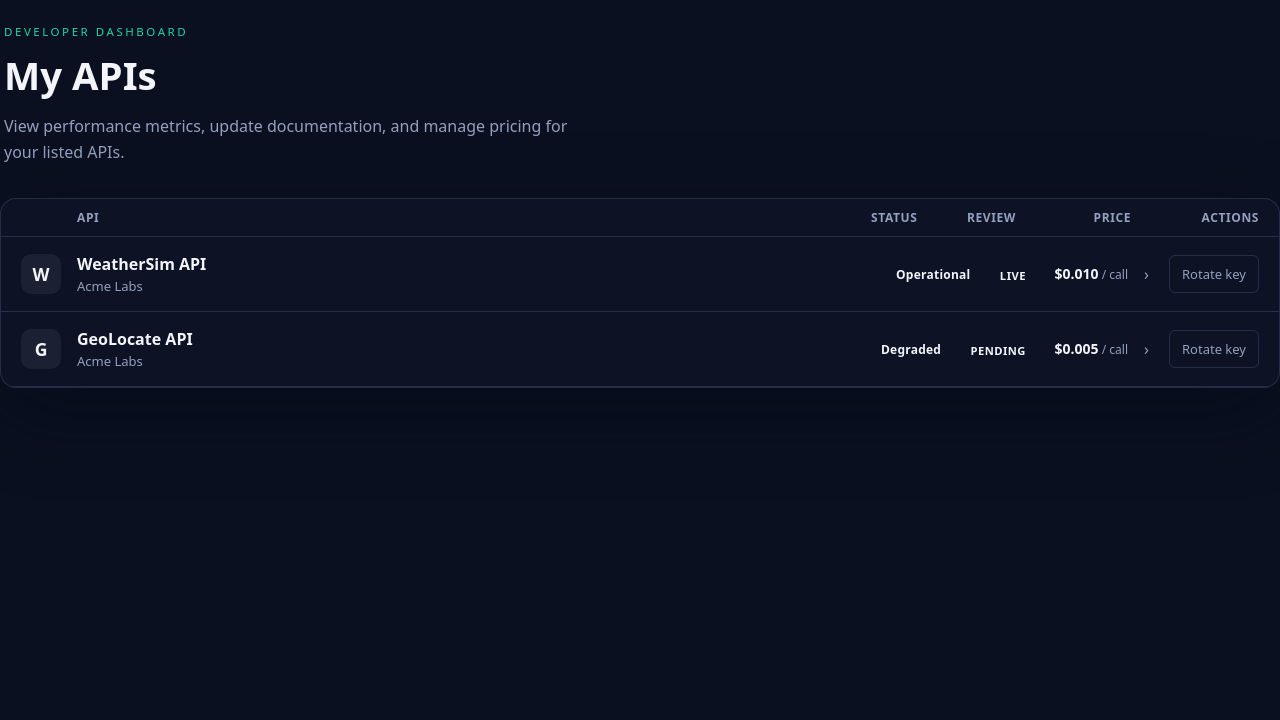
Test case: MyApis page › enables Rotate key button and opens KeyRotationModal when signed in
expect the list with test id "my-apis-list" is shown: met, box [1,237,1279,387]
What coordinates should you click on to do the following:
click the button with aria-label "Rotate key for WeatherSim API"
I would click on:
 (1214, 274)
Its box is [1169,255,1259,293].
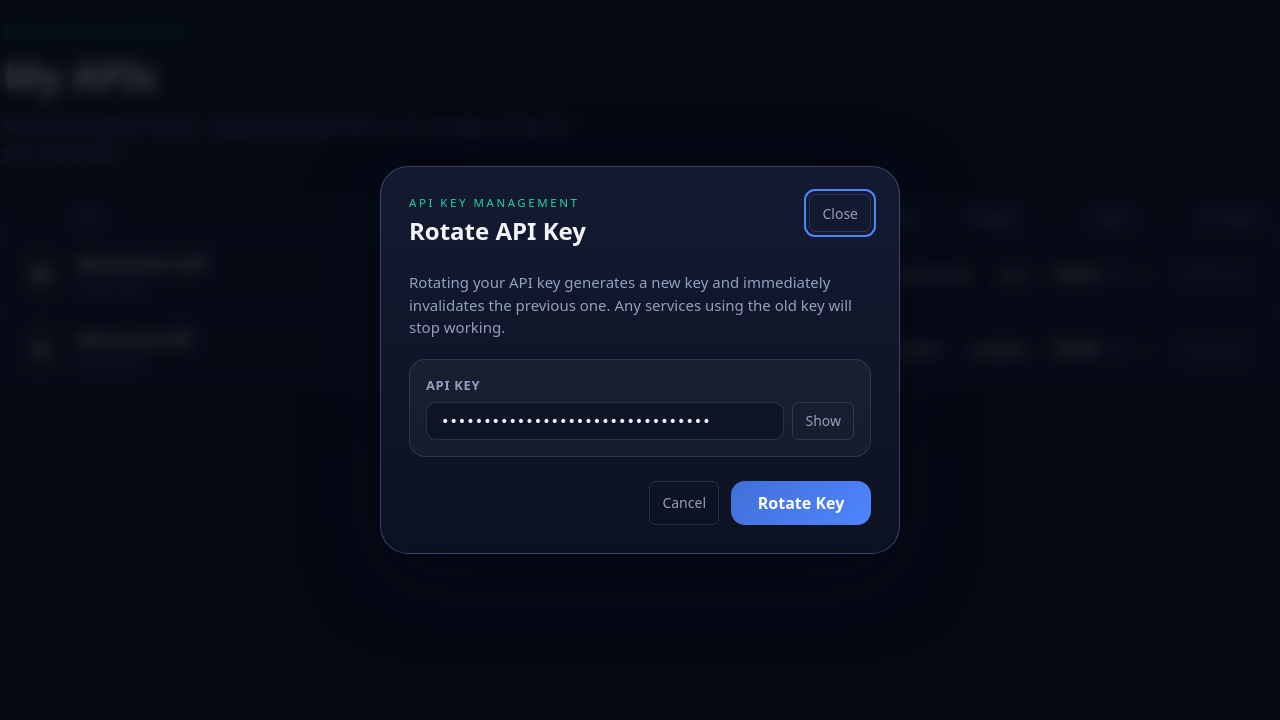
expect the dialog is shown: met, box [380,166,900,554]
expect the heading "Rotate API Key" is shown: met, box [409,214,586,247]
